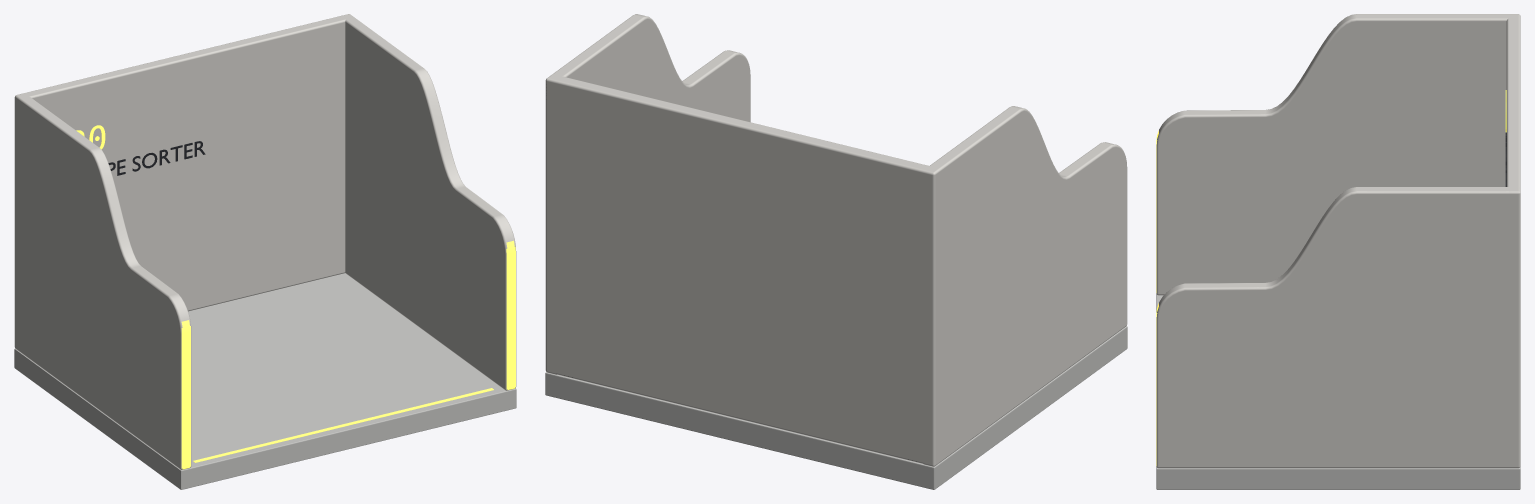
Rendered from Room_20_shape-sorter.glb.
The picture shows the model from 3 angles, left to right: view 1: azimuth 30°, elevation 25°; view 2: azimuth 150°, elevation 25°; view 3: azimuth 270°, elevation 25°; orthographic projection. The views are drawn at different scales.
Parts seen in each view (by area): view 1: Walls, Floor, Accent, Label; view 2: Walls, Floor; view 3: Walls, Floor.
Part boxes in pixels (x1,y1,x2,y2): Walls: [14, 14, 516, 469]; Floor: [14, 273, 516, 489]; Accent: [193, 388, 493, 462]; Label: [76, 125, 205, 175]; Walls: [545, 14, 1127, 466]; Floor: [545, 326, 1127, 489]; Walls: [1156, 14, 1520, 468]; Floor: [1156, 294, 1520, 489].
Bounding box in the file's own units: 3.6 × 2.8 × 3.1.
